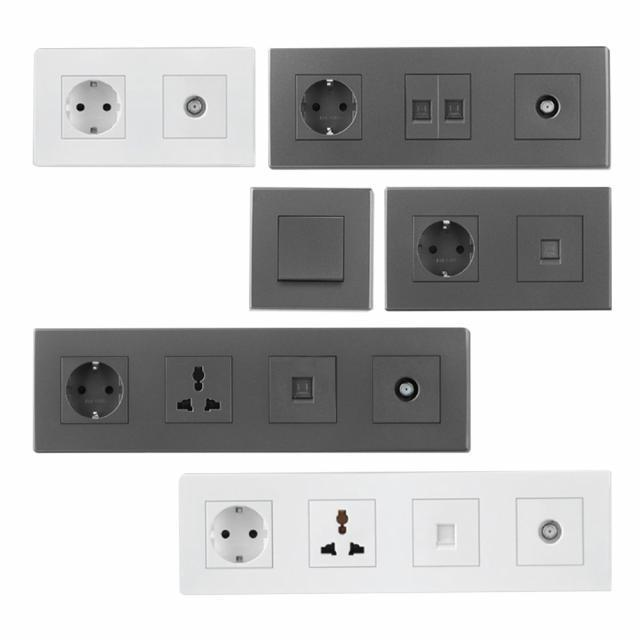typeb: (32, 311, 149, 473), (18, 35, 142, 183), (267, 36, 384, 182), (177, 465, 290, 607), (390, 185, 506, 321)
